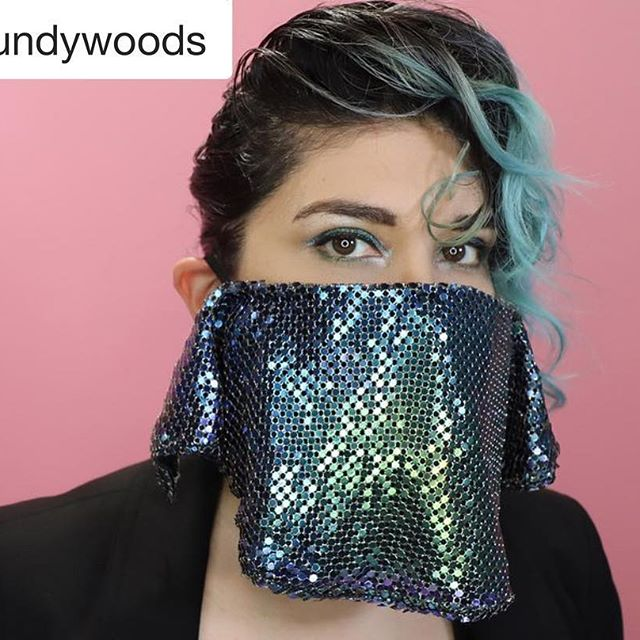homemade: (163, 258, 593, 619)
